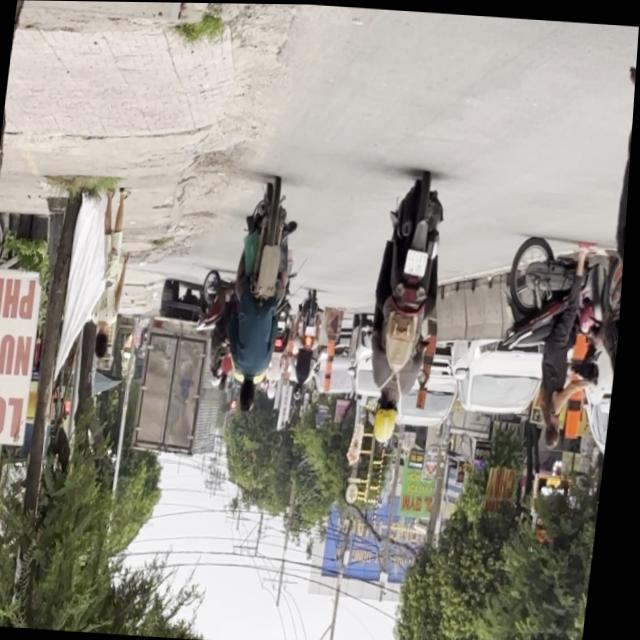helmet: (376, 395, 405, 442)
licenseplate: (488, 228, 615, 450), (361, 169, 455, 447), (222, 177, 309, 415)
motorcyclist: (545, 412, 568, 449), (243, 376, 264, 411)
nohelmet: (407, 247, 431, 276)
